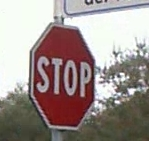stop: (26, 19, 94, 131)
